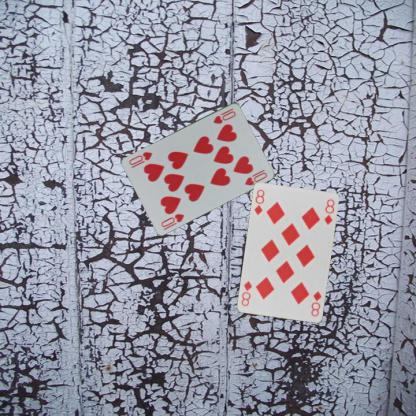10h: (210, 105, 237, 125), (158, 211, 186, 228)
8d: (309, 289, 323, 318), (252, 187, 266, 216)
